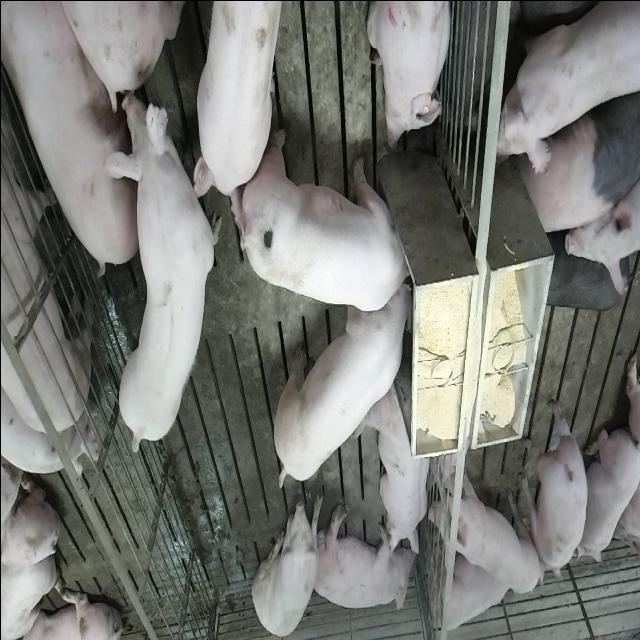Feeding: (240, 126, 420, 312), (268, 282, 410, 496)
Lateral_lying: (310, 502, 417, 614)
Sitting: (251, 489, 322, 636)
Standing: (0, 0, 93, 440), (112, 85, 220, 449), (492, 2, 638, 180), (518, 72, 638, 242), (196, 0, 288, 198), (425, 462, 544, 593), (527, 400, 589, 582)
Sternal_lying: (366, 0, 454, 150), (360, 376, 432, 556), (579, 420, 640, 570), (428, 544, 514, 634)
